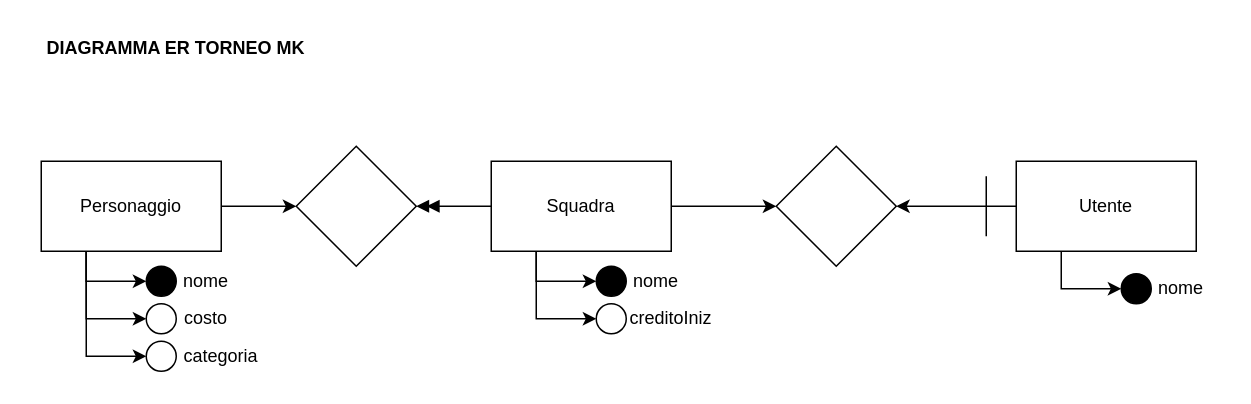
The diagram is 1251 pixels wide and 404 high, and some of its shapes have lost their labels. The centre of each missing label's shape, as x and y in pixels:
appartiene: the point at 355,205
possiede: the point at 835,205
